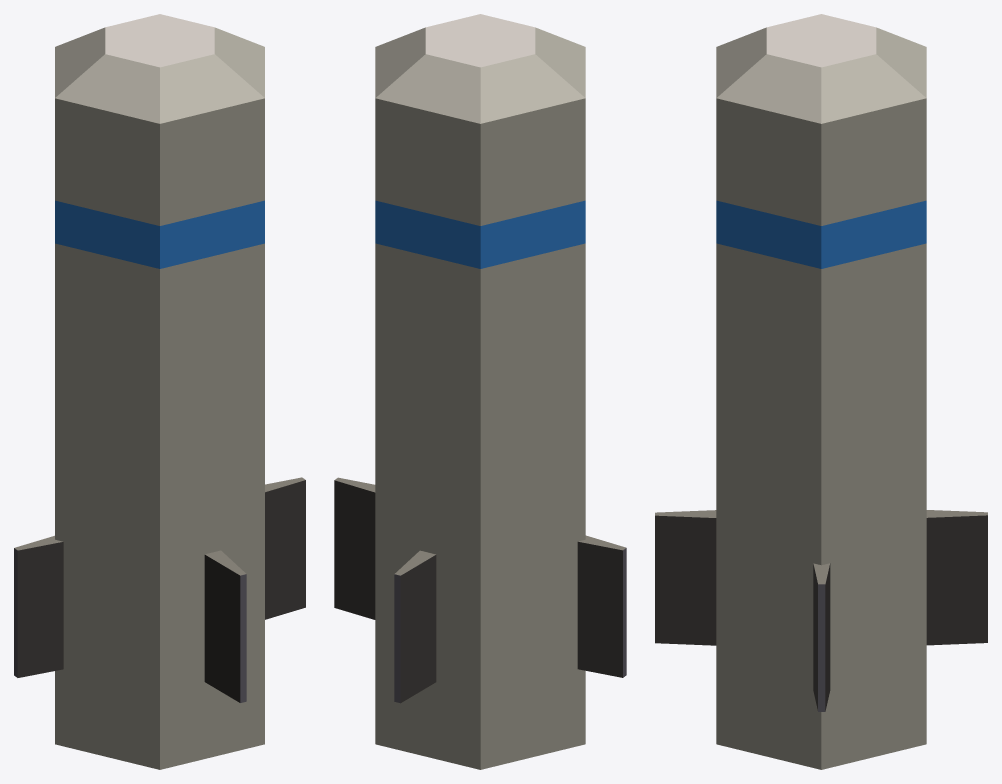
Rendered from TB_CanonTower_Lvl4_B_Rocket.FBX.
The picture shows the model from 3 angles, left to right: view 1: azimuth 30°, elevation 25°; view 2: azimuth 150°, elevation 25°; view 3: azimuth 270°, elevation 25°; orthographic projection.
Visible parts, largest first — view 1: TB_CanonTower_Lvl4_B_Rocket; view 2: TB_CanonTower_Lvl4_B_Rocket; view 3: TB_CanonTower_Lvl4_B_Rocket.
Boxes of the visible parts, x1,y1,x2,y2 form: TB_CanonTower_Lvl4_B_Rocket: [14, 14, 305, 769]; TB_CanonTower_Lvl4_B_Rocket: [334, 14, 626, 769]; TB_CanonTower_Lvl4_B_Rocket: [655, 14, 987, 769].
Bounding box in the file's own units: 1.3 × 2.91 × 1.3.
